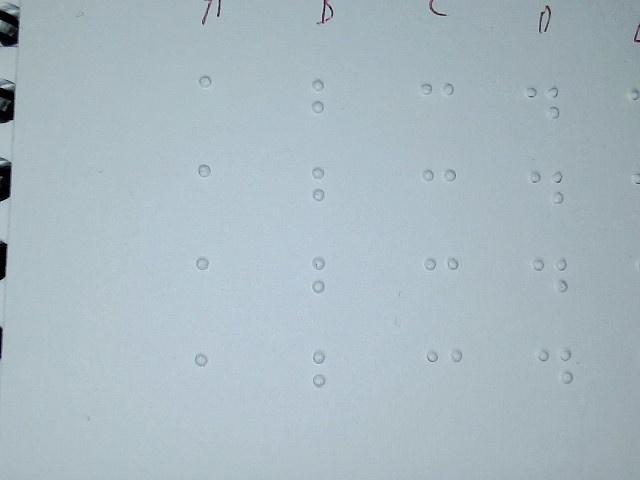A: (195, 71, 235, 138), (195, 160, 235, 227), (193, 253, 233, 320), (191, 349, 231, 416)
B: (308, 76, 346, 138), (308, 163, 346, 225), (309, 347, 347, 409), (308, 252, 346, 314)
